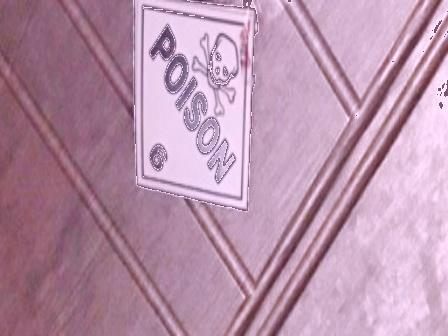poison: (132, 1, 250, 210)
